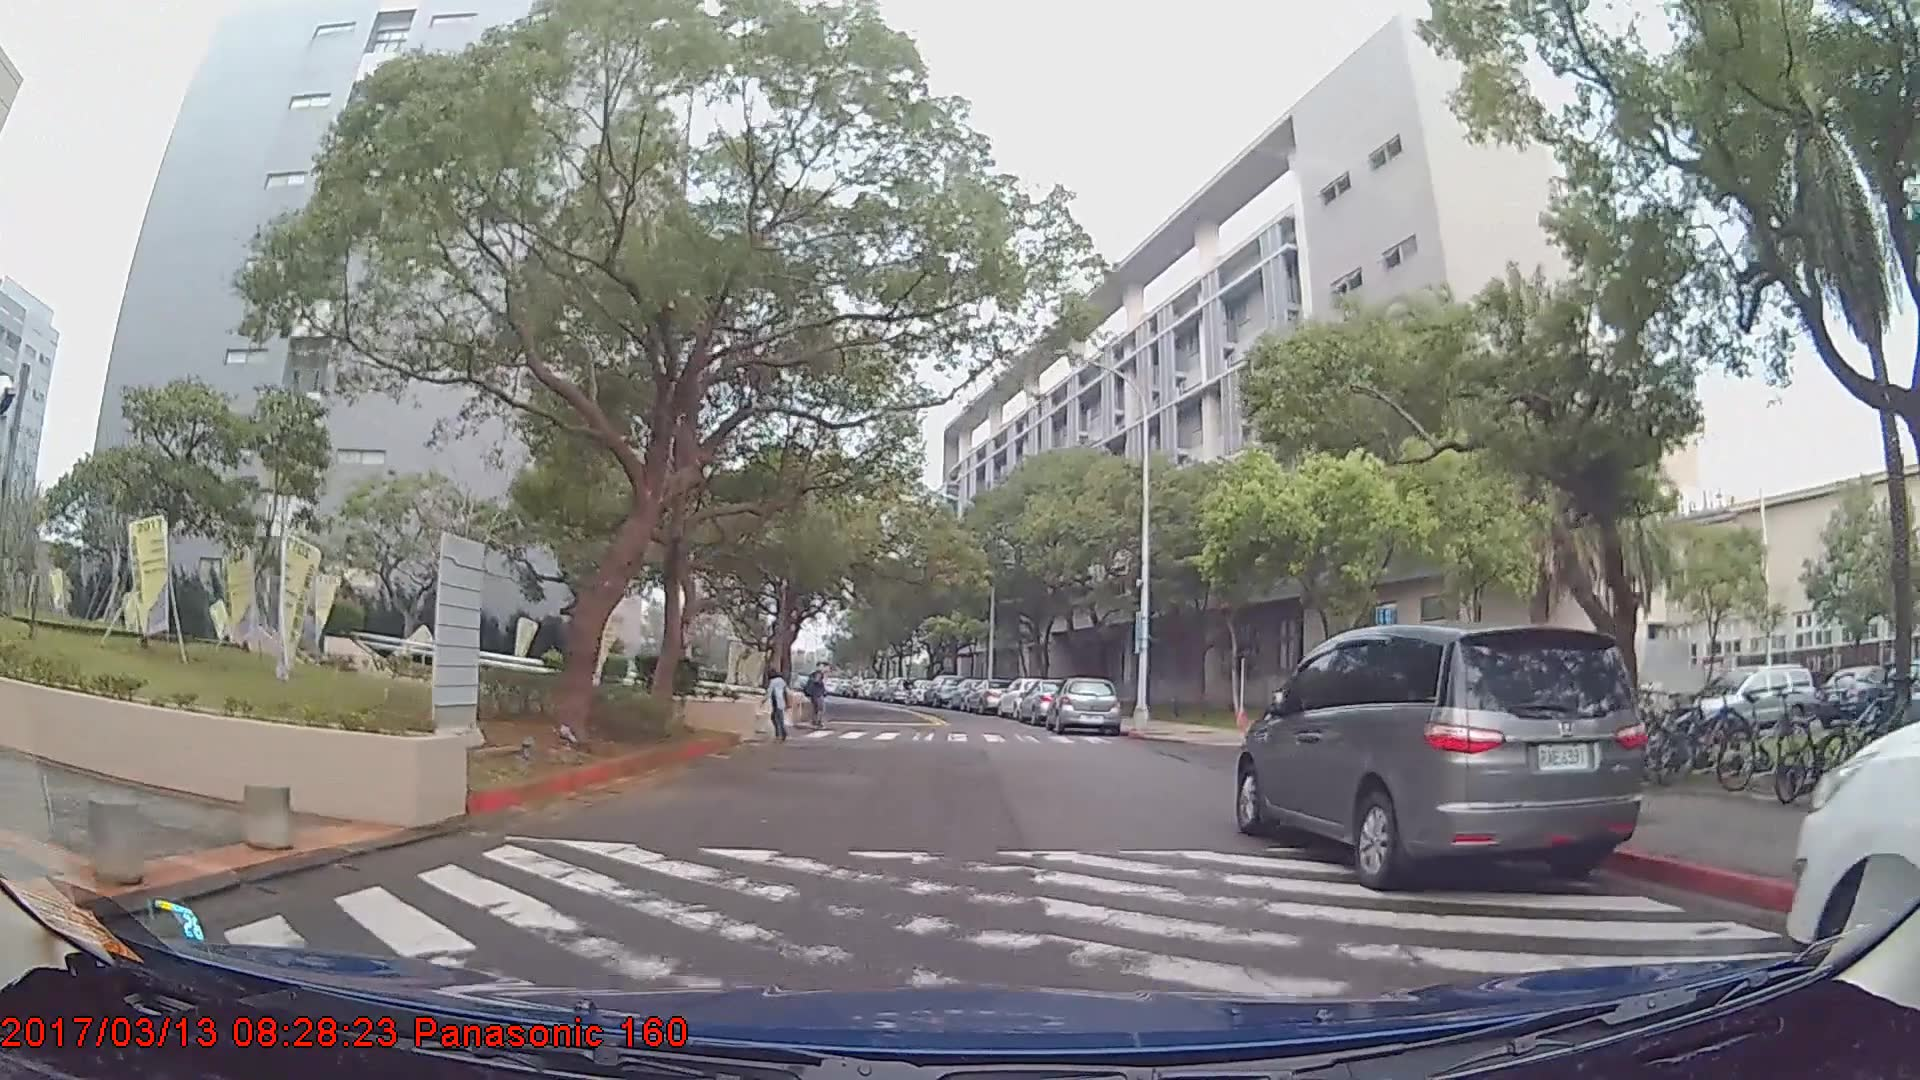pedestrian: (765, 673, 794, 745), (804, 661, 830, 736)
vehicle: (1235, 621, 1649, 895), (1682, 663, 1819, 744), (1814, 662, 1901, 723), (1050, 677, 1122, 737), (921, 674, 962, 708), (965, 682, 1008, 716)
